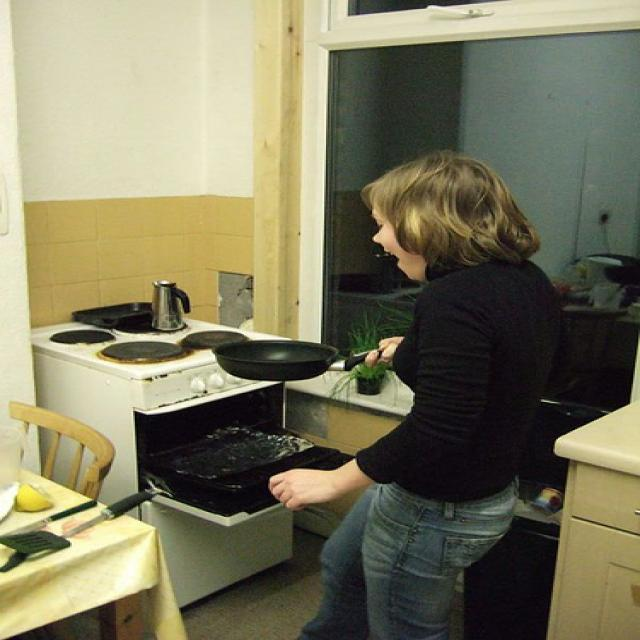chair: (9, 400, 116, 502)
dining table: (0, 465, 153, 587)
